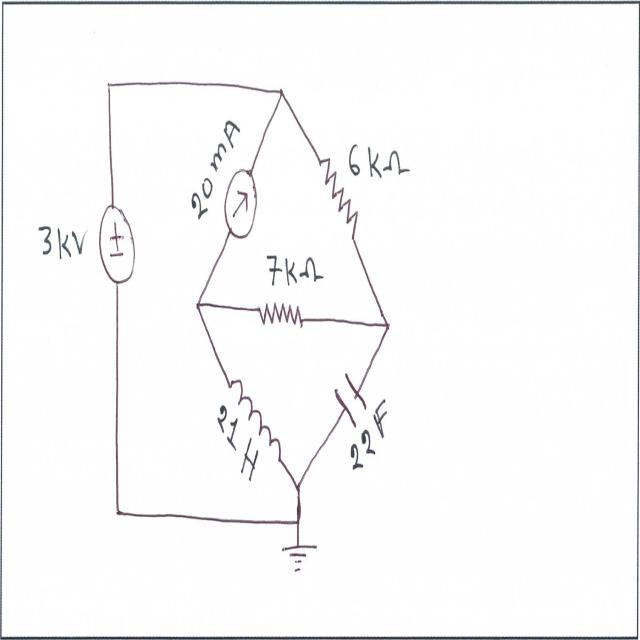capacitor: (332, 365, 369, 431)
current_source: (222, 160, 260, 246)
ground: (279, 540, 326, 579)
inductor: (224, 368, 284, 467)
resistor: (316, 147, 358, 240), (250, 296, 310, 336)
voltage_source: (96, 201, 140, 295)
